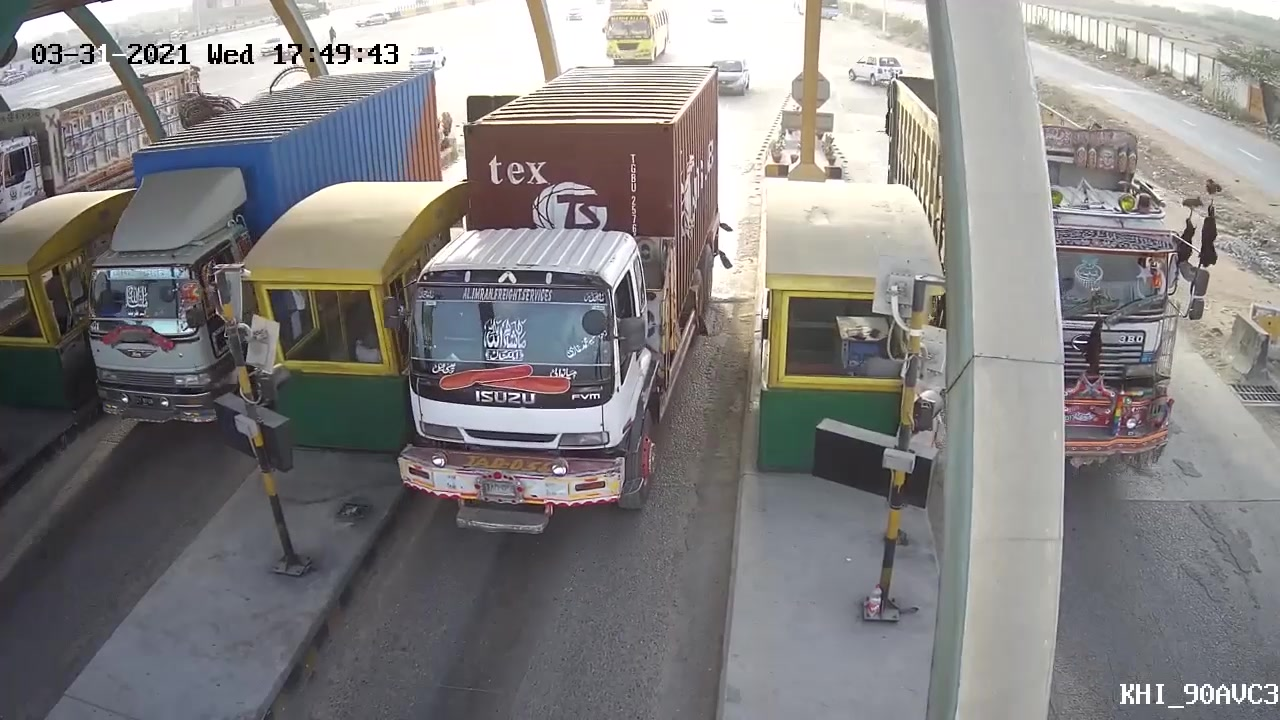F5: (395, 104, 729, 552)
